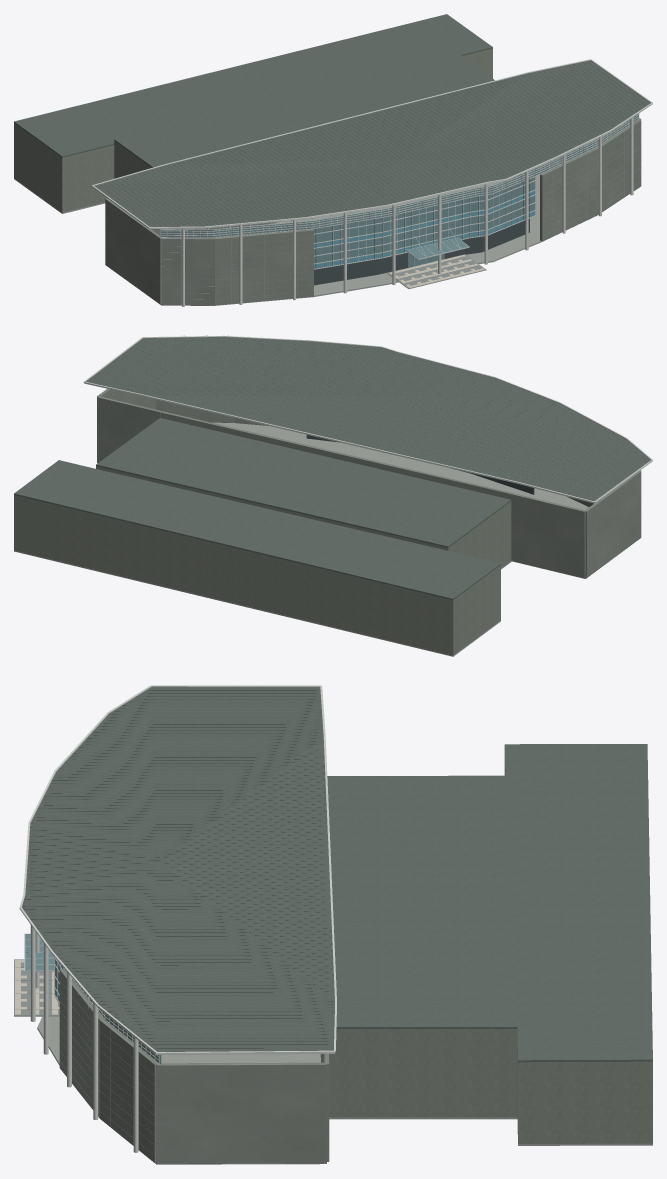
The model's file is heritage-hall.glb.
3 views of the same model, one above another, from view 1: azimuth 30°, elevation 25°; view 2: azimuth 150°, elevation 25°; view 3: azimuth 270°, elevation 25° (orthographic). The views are drawn at different scales.
Parts seen in each view (by area): view 1: 20 | Broad canopy / estimated profile, 03 | Rear roof / provisional flat closure, 04 | Middle roof / provisional flat closure, Roof | estimated standing seam treatment, 05 | Solid façade segment 08, 01 | Rear wing / unverified elevations, 05 | Solid façade segment 10, 05 | Solid façade segment 03, 46 | Continuous upper clerestory, 05 | Solid façade segment 09, 40 | Curtain-wall panes and spandrels.001, 00 | Exact OSM outline / low plinth (+17 smaller); view 2: 20 | Broad canopy / estimated profile, 01 | Rear wing / unverified elevations, 04 | Middle roof / provisional flat closure, 03 | Rear roof / provisional flat closure, Roof | estimated standing seam treatment, 05 | Solid façade segment 11, 00 | Exact OSM outline / low plinth, 05 | Solid façade segment 10, 02 | Middle volume / unverified elevations, 05 | Solid façade segment 12, 05 | Solid façade segment 00, 21 | Canopy fascia 12 (+2 smaller); view 3: 20 | Broad canopy / estimated profile, 04 | Middle roof / provisional flat closure, 03 | Rear roof / provisional flat closure, Roof | estimated standing seam treatment, 05 | Solid façade segment 01, 02 | Middle volume / unverified elevations, 01 | Rear wing / unverified elevations, 05 | Solid façade segment 02, 05 | Solid façade segment 03, 00 | Exact OSM outline / low plinth, 67 | Paving inlay pattern, 67 | Paving inlay pattern.001 (+3 smaller).
Boxes of the visible parts, x1=… form: 20 | Broad canopy / estimated profile: x1=94, y1=60, x2=650, y2=229; 03 | Rear roof / provisional flat closure: x1=14, y1=14, x2=492, y2=157; 04 | Middle roof / provisional flat closure: x1=114, y1=52, x2=494, y2=167; Roof | estimated standing seam treatment: x1=100, y1=60, x2=649, y2=226; 05 | Solid façade segment 08: x1=214, y1=229, x2=313, y2=305; 01 | Rear wing / unverified elevations: x1=14, y1=48, x2=492, y2=212; 05 | Solid façade segment 10: x1=105, y1=198, x2=162, y2=304; 05 | Solid façade segment 03: x1=540, y1=147, x2=598, y2=241; 46 | Continuous upper clerestory: x1=161, y1=114, x2=638, y2=237; 05 | Solid façade segment 09: x1=161, y1=237, x2=214, y2=305; 40 | Curtain-wall panes and spandrels.001: x1=314, y1=195, x2=534, y2=263; 00 | Exact OSM outline / low plinth: x1=14, y1=175, x2=597, y2=305; 20 | Broad canopy / estimated profile: x1=84, y1=337, x2=650, y2=503; 01 | Rear wing / unverified elevations: x1=14, y1=495, x2=500, y2=655; 04 | Middle roof / provisional flat closure: x1=96, y1=418, x2=511, y2=547; 03 | Rear roof / provisional flat closure: x1=14, y1=460, x2=500, y2=599; Roof | estimated standing seam treatment: x1=87, y1=337, x2=646, y2=499; 05 | Solid façade segment 11: x1=511, y1=493, x2=585, y2=578; 00 | Exact OSM outline / low plinth: x1=14, y1=422, x2=588, y2=656; 05 | Solid façade segment 10: x1=585, y1=471, x2=641, y2=577; 02 | Middle volume / unverified elevations: x1=96, y1=466, x2=511, y2=567; 05 | Solid façade segment 12: x1=160, y1=411, x2=512, y2=499; 05 | Solid façade segment 00: x1=97, y1=396, x2=161, y2=462; 21 | Canopy fascia 12: x1=146, y1=395, x2=519, y2=483; 20 | Broad canopy / estimated profile: x1=22, y1=687, x2=334, y2=1054; 04 | Middle roof / provisional flat closure: x1=327, y1=775, x2=517, y2=1028; 03 | Rear roof / provisional flat closure: x1=504, y1=744, x2=652, y2=1062; Roof | estimated standing seam treatment: x1=23, y1=690, x2=332, y2=1051; 05 | Solid façade segment 01: x1=156, y1=1062, x2=326, y2=1163; 02 | Middle volume / unverified elevations: x1=329, y1=1029, x2=517, y2=1117; 01 | Rear wing / unverified elevations: x1=504, y1=748, x2=652, y2=1143; 05 | Solid façade segment 02: x1=100, y1=1019, x2=157, y2=1162; 05 | Solid façade segment 03: x1=59, y1=969, x2=103, y2=1118; 00 | Exact OSM outline / low plinth: x1=37, y1=1016, x2=652, y2=1164; 67 | Paving inlay pattern: x1=15, y1=960, x2=59, y2=1014; 67 | Paving inlay pattern.001: x1=21, y1=962, x2=59, y2=1014.
Size of the model in its own units: 98.81 by 16.09 by 72.59.
Materials: 15 (3 with a texture image).
